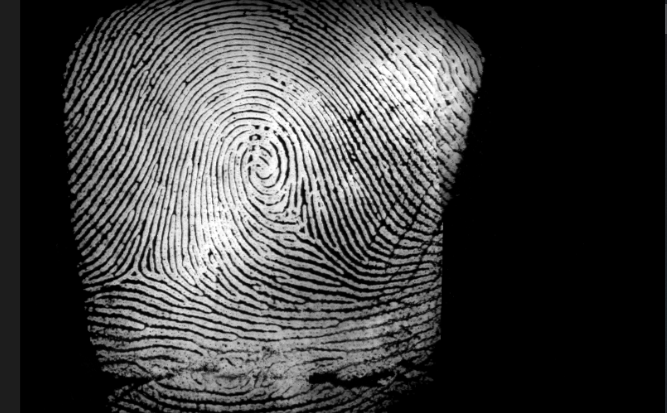deltas: (105, 240, 163, 294), (281, 204, 337, 258)
nucleo: (231, 140, 285, 191)
